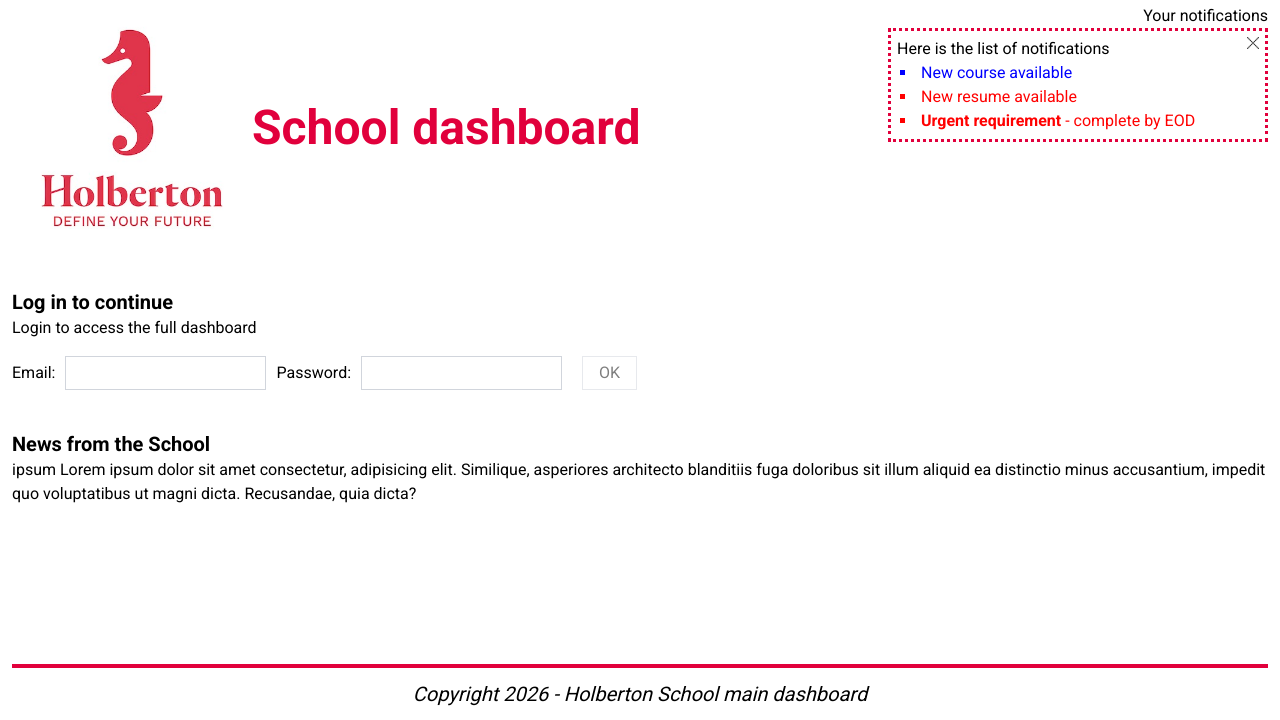
Scenario: Clicking on a notification item removes it from the list and logs the expected string
Click the list item "New course available". click: click(997, 72)
box: x1=921 y1=63 x2=1072 y2=82
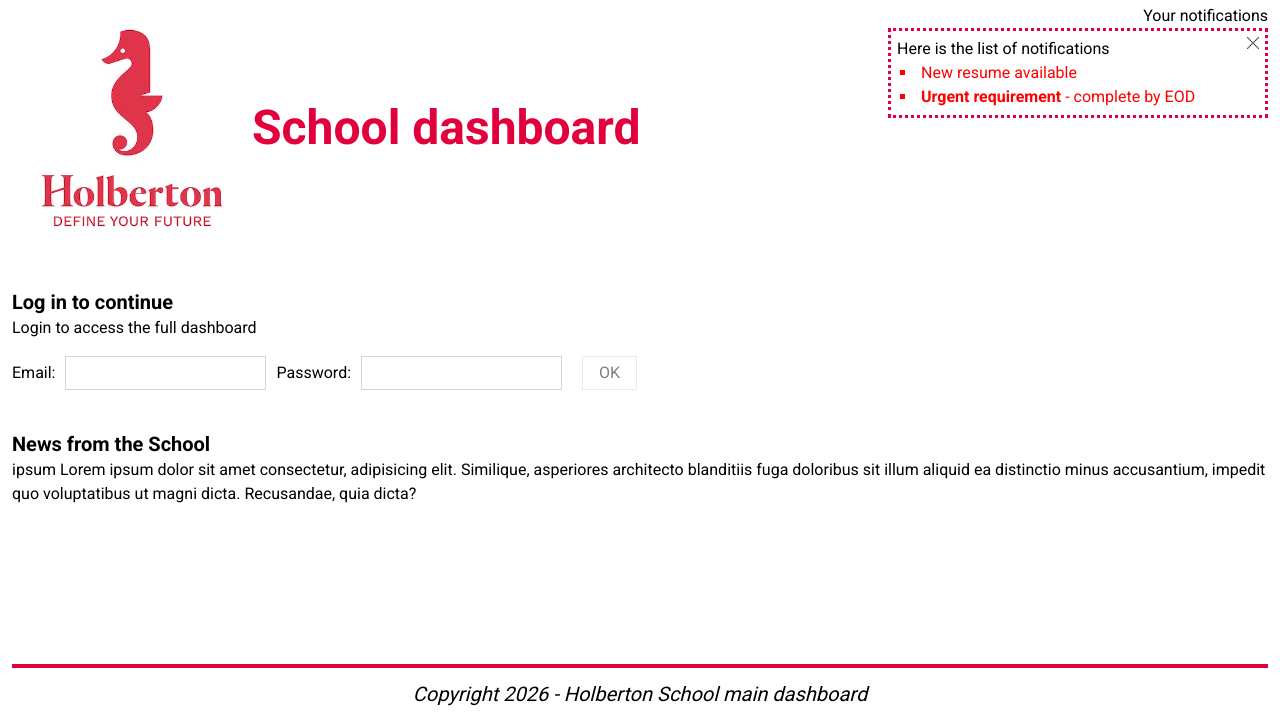
expect the list item "New course available" is gone: met
